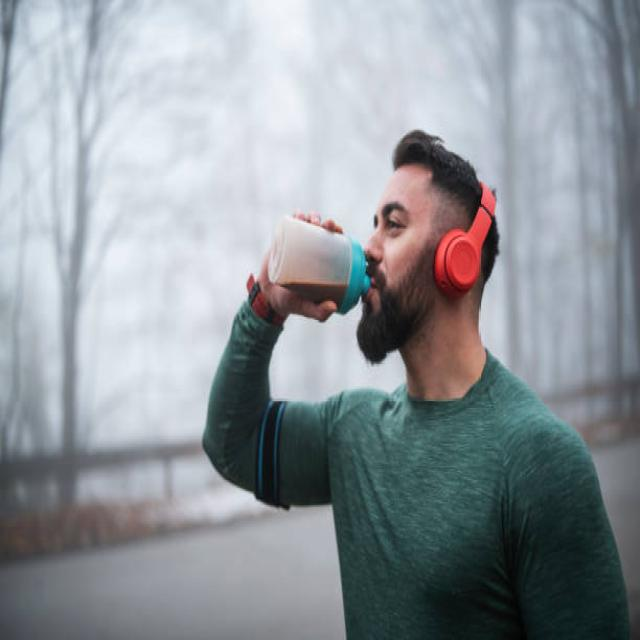Headphone: (432, 180, 498, 303)
